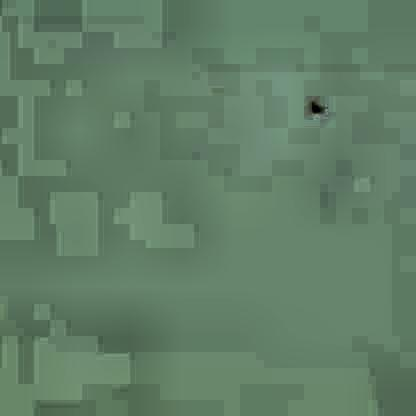golfball: (305, 95, 323, 113)
